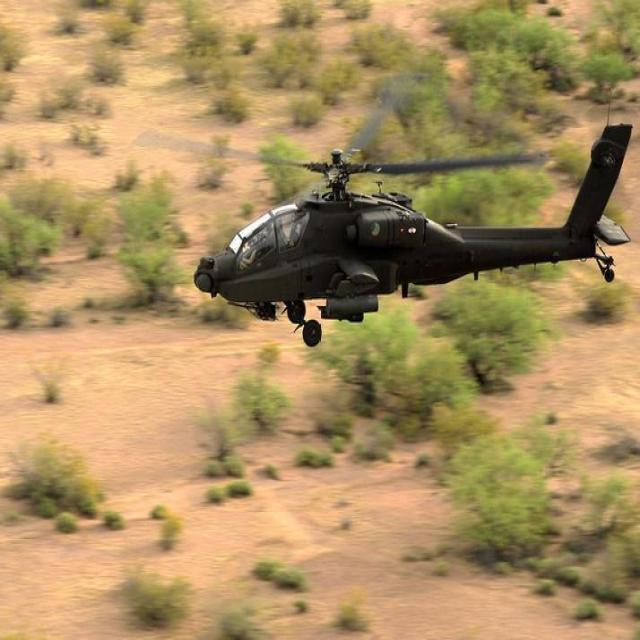MIL_HELO: (142, 106, 640, 352)
